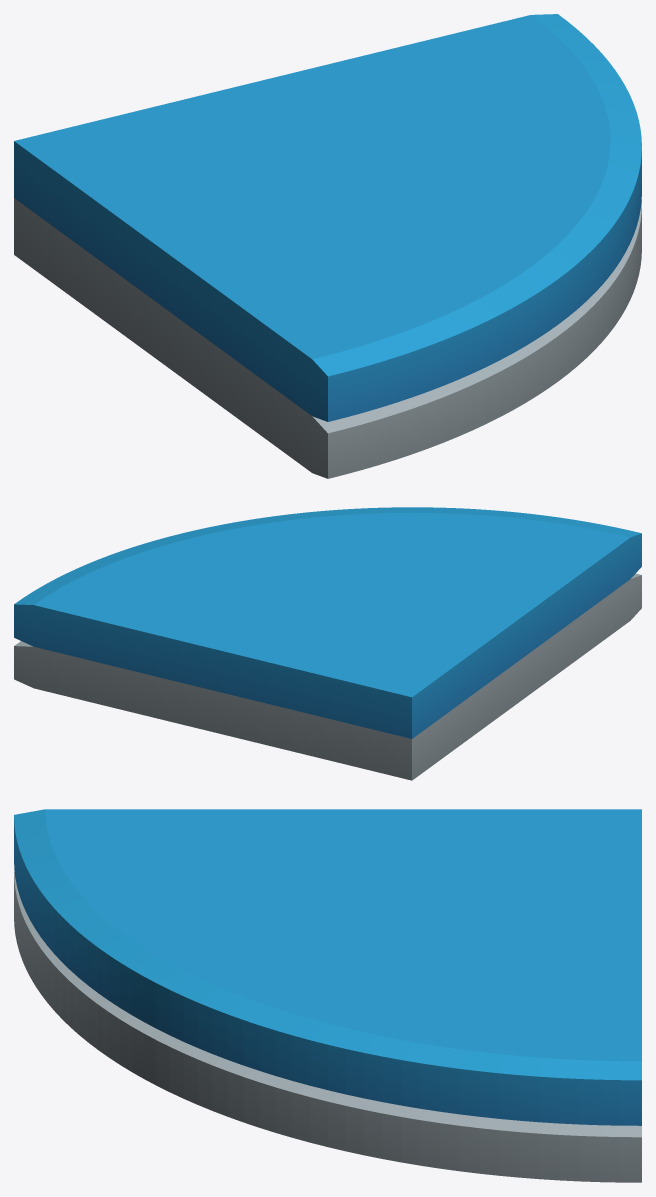
File: kaykit_platform_quarter_circle_5x5x1_blue.glb
The picture shows the model from 3 angles, top to bottom: view 1: azimuth 30°, elevation 25°; view 2: azimuth 150°, elevation 25°; view 3: azimuth 270°, elevation 25°; orthographic projection. The views are drawn at different scales.
Visible parts, largest first — view 1: kaykit_platform_quarter_circle_blue_visual; view 2: kaykit_platform_quarter_circle_blue_visual; view 3: kaykit_platform_quarter_circle_blue_visual.
Part boxes in pixels (<box>): kaykit_platform_quarter_circle_blue_visual: <box>14,14,641,478</box>; kaykit_platform_quarter_circle_blue_visual: <box>14,507,641,780</box>; kaykit_platform_quarter_circle_blue_visual: <box>14,809,641,1182</box>.
Size of what is drawn, in the model's own units: 5 by 1 by 5.
Materials: 1 (1 with a texture image).
